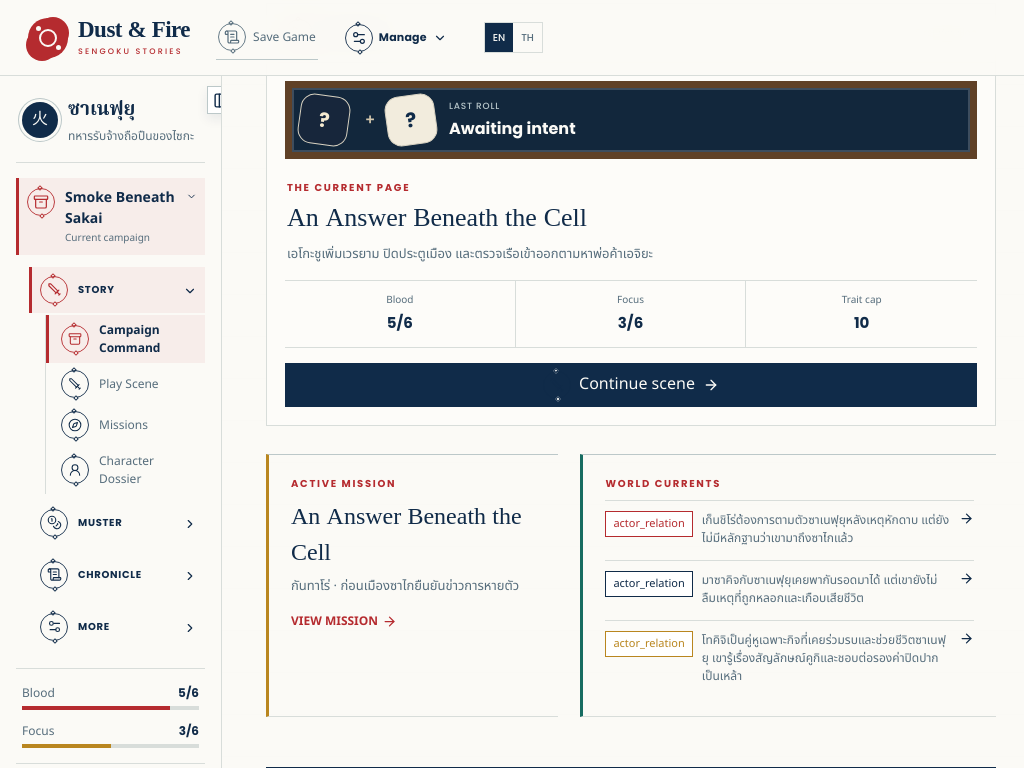
Test: UI Preview click flow › uses one direct intent CTA without a risk-preview button and preserves the four-second roll cadence
(page scrolled)
Step 1. Click the button with aria-label "Return to" → (631, 385), box [285,363,977,407]
(page scrolled)
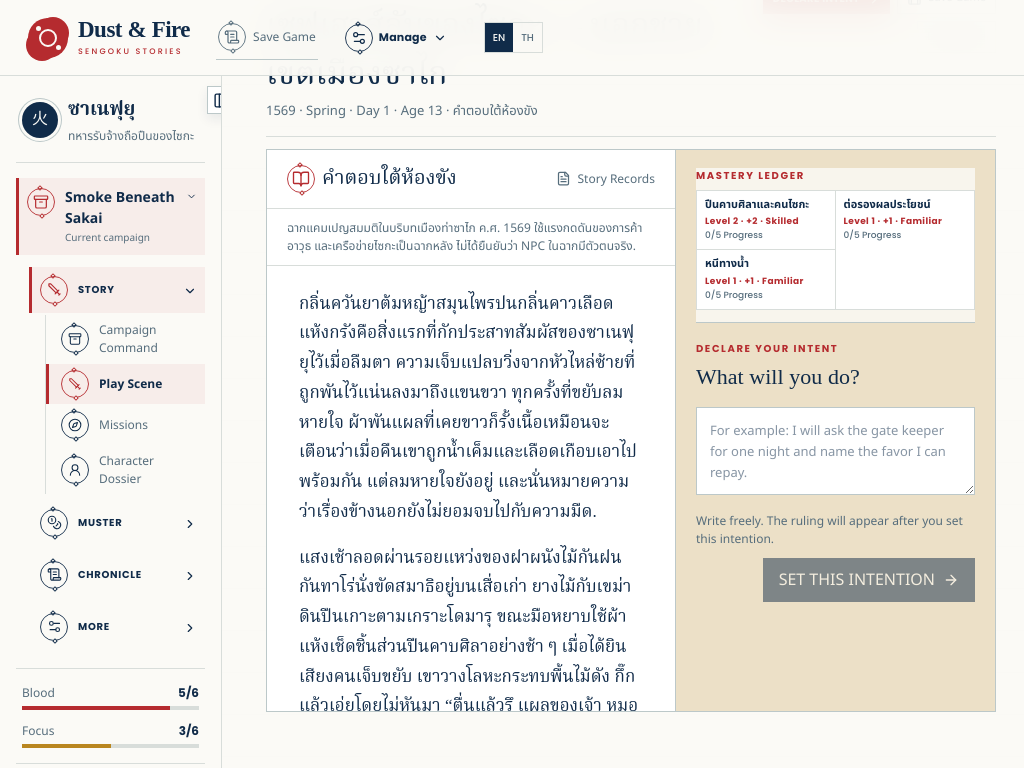
Expected: the heading "What will you do?" is shown, [696,362,860,395]
